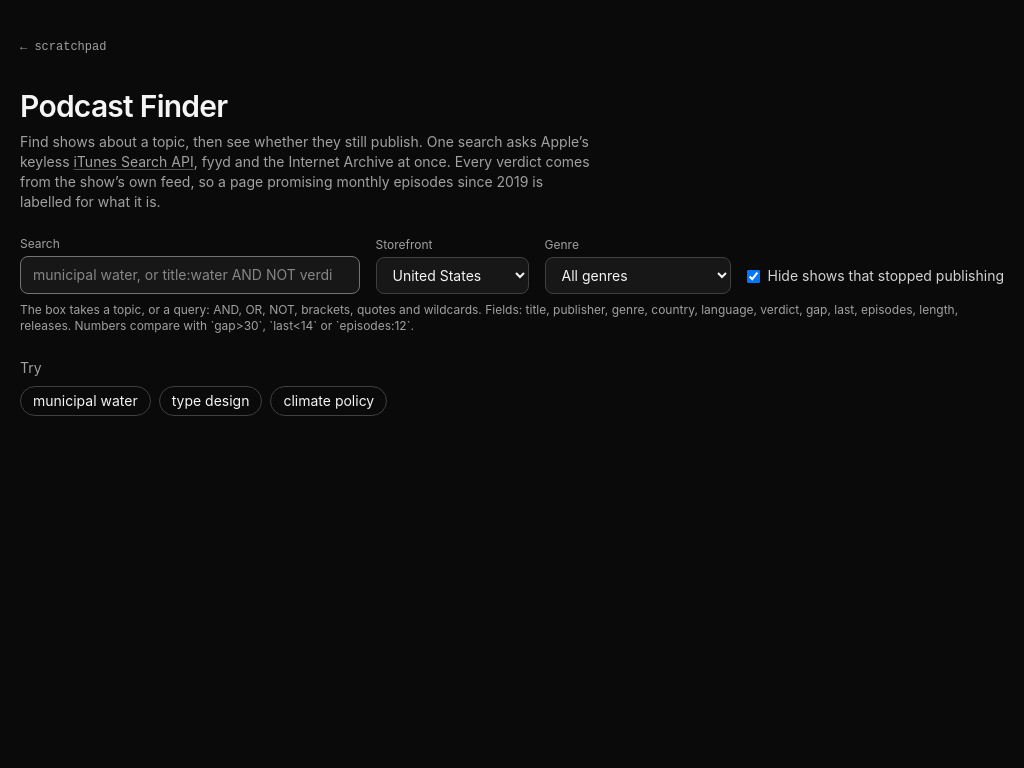
Scenario: PodcastFinderPage › searches a topic and labels a dead show with its broken promise
Click the checkbox labelled "Hide shows that stopped publishing": (753, 276) [746,270,760,282]
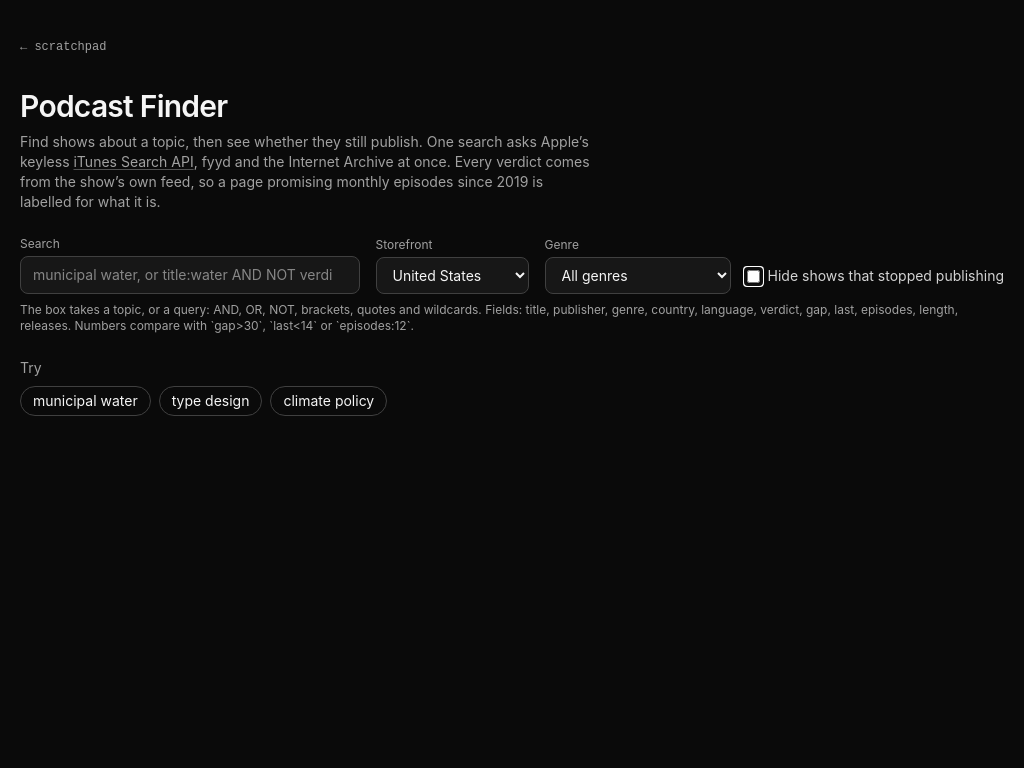
In the search field labelled "Search": (190, 275) [20,256,360,294], type "drains"
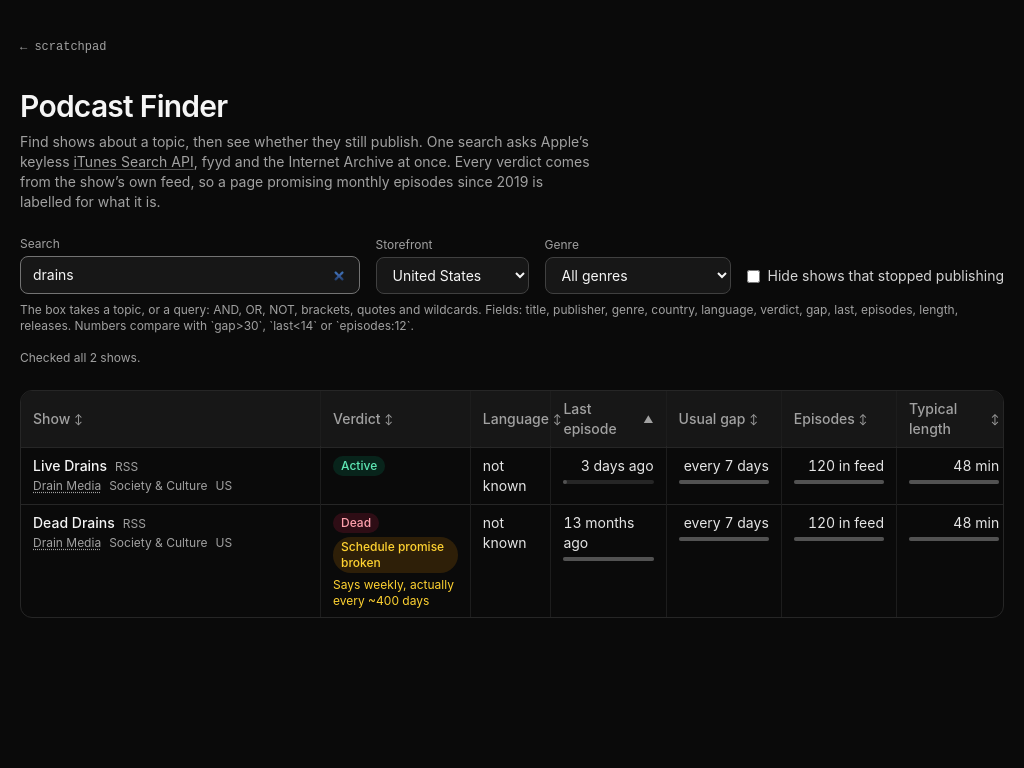
Result: the link "Dead Drains" is shown at [33,513,115,533]
Result: the list item "Dead" is shown at [333,513,379,533]
Result: the text "Says weekly, actually every ~400 days" is shown at [333,577,458,609]
